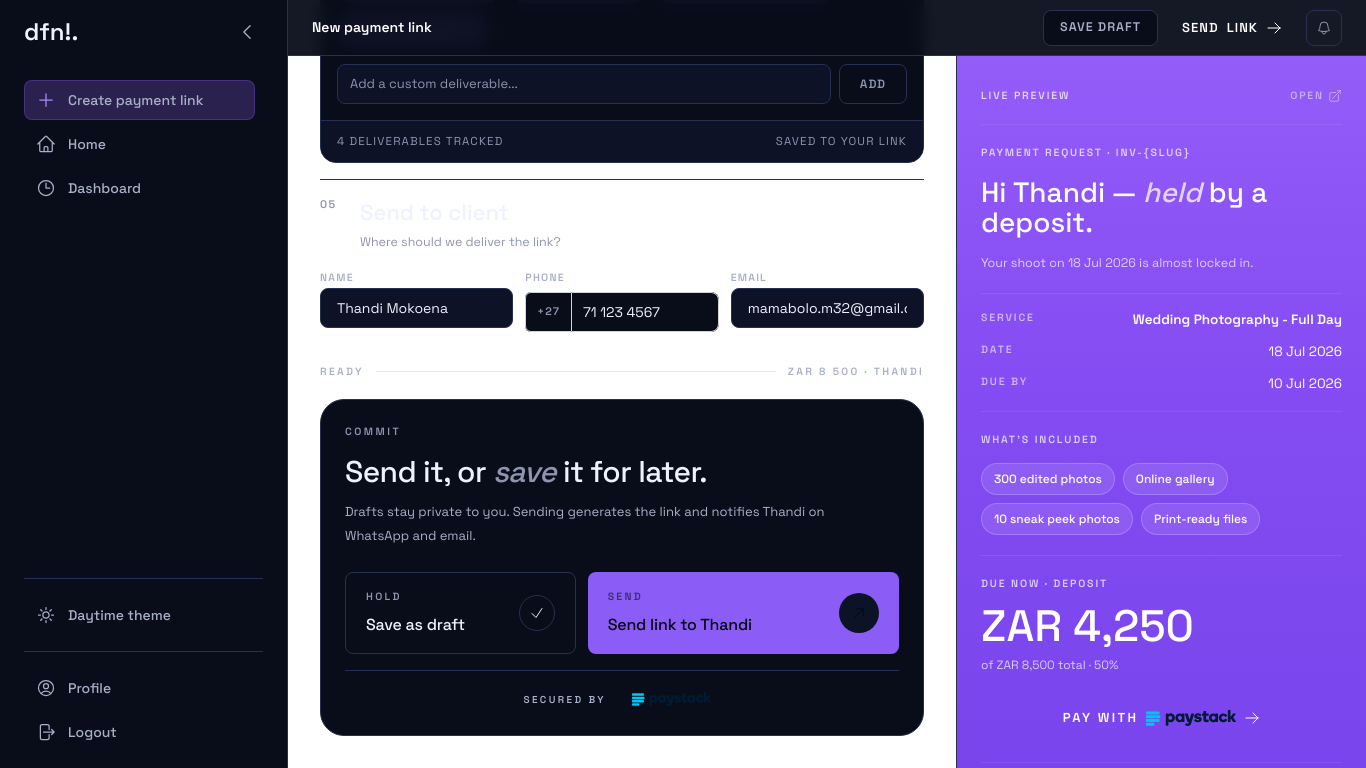
Test: CreatePaymentLinkPage layout › switches to the daytime indigo theme after a successful payment request
The width and height of the screenshot is (1366, 768).
(page scrolled)
What coordinates should you click on to do the following:
click the button "Send Send link to Thandi"
I would click on:
 (743, 613)
Its box is left=588, top=572, right=899, bottom=654.
(page scrolled)
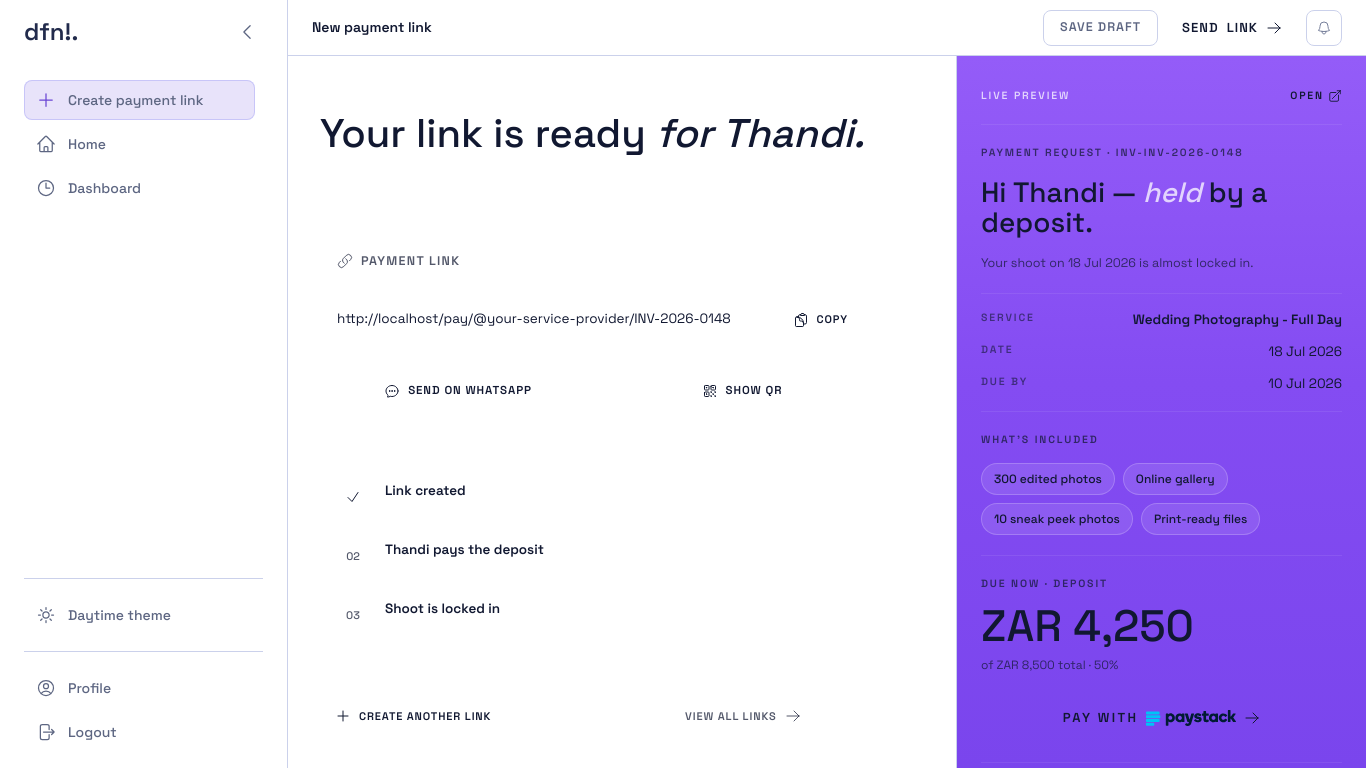
Check: the heading "Your link is ready for Thandi." is shown, box left=320, top=113, right=880, bottom=155
